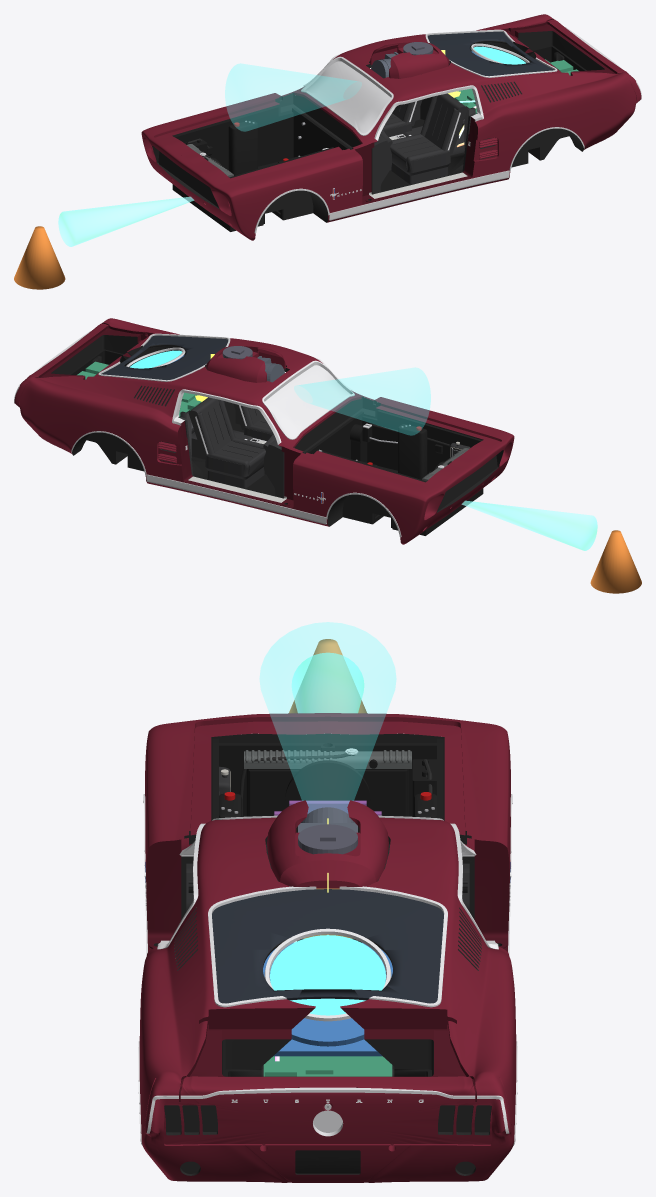
Rendered from mustang_ai_delta.glb.
3 views of the same model, one above another, from view 1: azimuth 30°, elevation 25°; view 2: azimuth 150°, elevation 25°; view 3: azimuth 270°, elevation 25° (orthographic). The views are drawn at different scales.
Visible parts, largest first — view 1: AI_Body, AI_InteriorTub, AI_BayTub, AI_VFX_FisheyeFOV, AI_VFX_ToFBeam, AI_Glass_Rear, AI_Track_Obstacle, WaymoPod, AI_BootTub, BOM_01_Radxa_Zero_3W, AI_GC9A01_Screen; view 2: AI_Body, AI_InteriorTub, AI_BayTub, AI_VFX_FisheyeFOV, AI_VFX_ToFBeam, AI_Glass_Rear, AI_Track_Obstacle, WaymoPod, BOM_01_Radxa_Zero_3W, AI_GC9A01_Screen, AI_BootTub; view 3: AI_Body, AI_VFX_FisheyeFOV, AI_Glass_Rear, AI_BayTub, WaymoPod, AI_GC9A01_Screen, AI_VFX_ToFBeam, AI_Track_Obstacle, BOM_04_GC9A01_Display, BOM_01_Radxa_Zero_3W, BOM_05_INMP441_Mic, GC9A01Bezel (+1 smaller).
Boxes of the visible parts, x1,y1,x2,y2 form: AI_Body: (141,14,641,240); AI_InteriorTub: (371,93,475,194); AI_BayTub: (172,106,351,231); AI_VFX_FisheyeFOV: (225,63,361,131); AI_VFX_ToFBeam: (58,196,194,246); AI_Glass_Rear: (427,31,554,76); AI_Track_Obstacle: (14,226,65,289); WaymoPod: (370,42,449,78); AI_BootTub: (526,45,586,70); BOM_01_Radxa_Zero_3W: (454,59,578,113); AI_GC9A01_Screen: (473,46,525,64); AI_Body: (14,318,514,544); AI_InteriorTub: (180,397,284,498); AI_BayTub: (304,410,483,535); AI_VFX_FisheyeFOV: (294,367,430,435); AI_VFX_ToFBeam: (461,500,597,550); AI_Glass_Rear: (101,335,228,380); AI_Track_Obstacle: (590,530,641,593); WaymoPod: (206,346,285,382); BOM_01_Radxa_Zero_3W: (77,361,201,417); AI_GC9A01_Screen: (130,350,182,368); AI_BootTub: (69,349,129,374); AI_Body: (138,713,517,1182); AI_VFX_FisheyeFOV: (259,622,396,813); AI_Glass_Rear: (212,889,443,1003); AI_BayTub: (212,738,443,819); WaymoPod: (267,800,388,888); AI_GC9A01_Screen: (270,935,385,1015); AI_VFX_ToFBeam: (291,652,364,713); AI_Track_Obstacle: (289,639,369,734); BOM_04_GC9A01_Display: (263,942,392,1056); BOM_01_Radxa_Zero_3W: (263,1056,392,1076); BOM_05_INMP441_Mic: (298,824,357,854); GC9A01Bezel: (264,928,391,1021).
Bounding box in the file's own units: 313 × 83.59 × 88.55.
